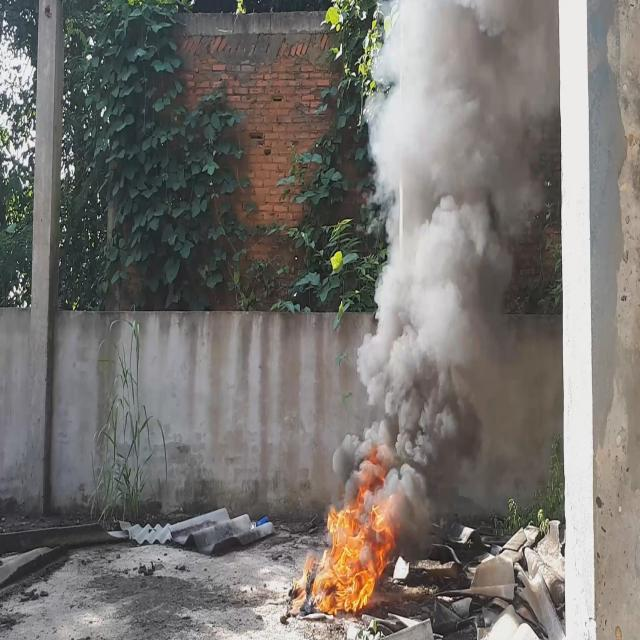Fire: (315, 436, 397, 610)
Smoke: (332, 0, 558, 548)
